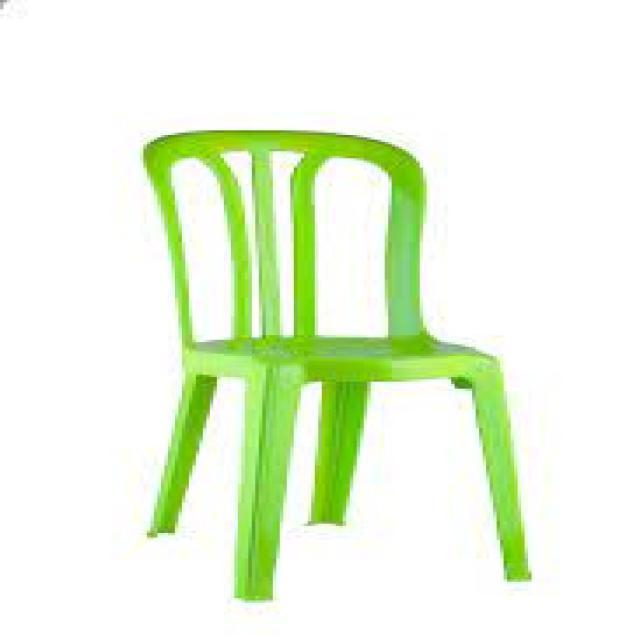chair: (138, 113, 540, 604)
